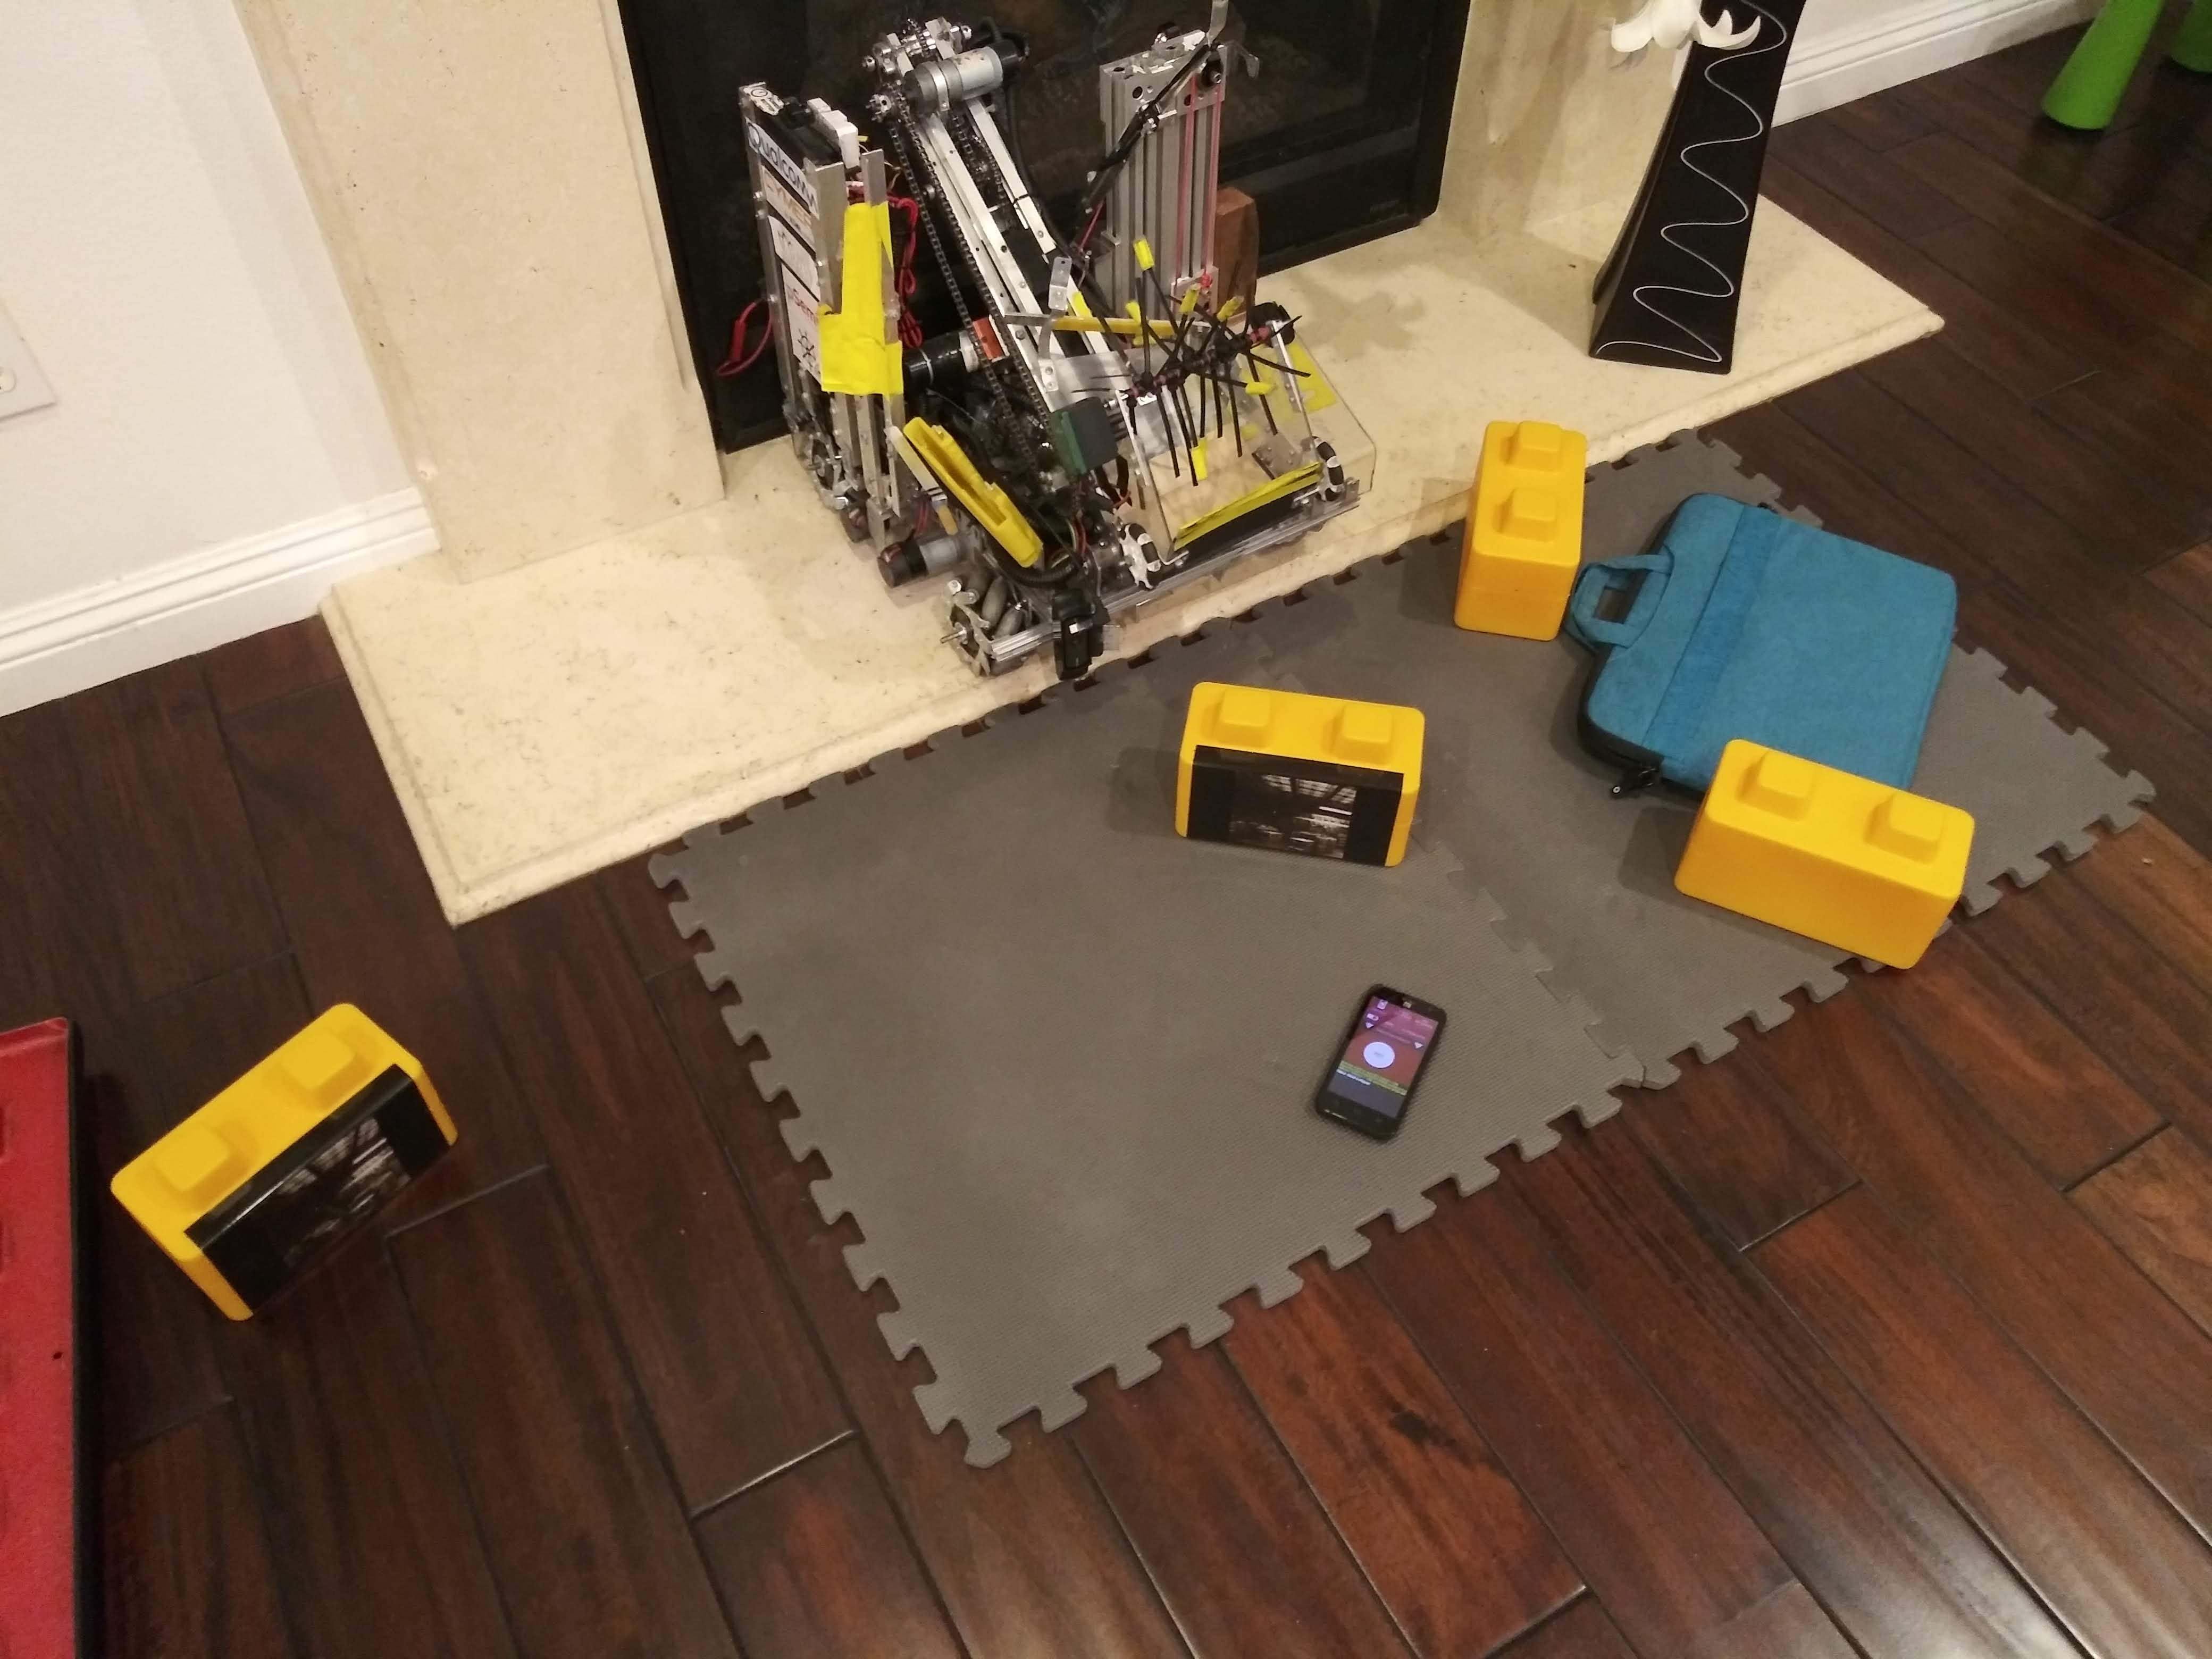skystone: (105, 1080, 463, 1302), (1181, 704, 1409, 875)
stone: (1698, 758, 1947, 974), (1465, 423, 1592, 640)
